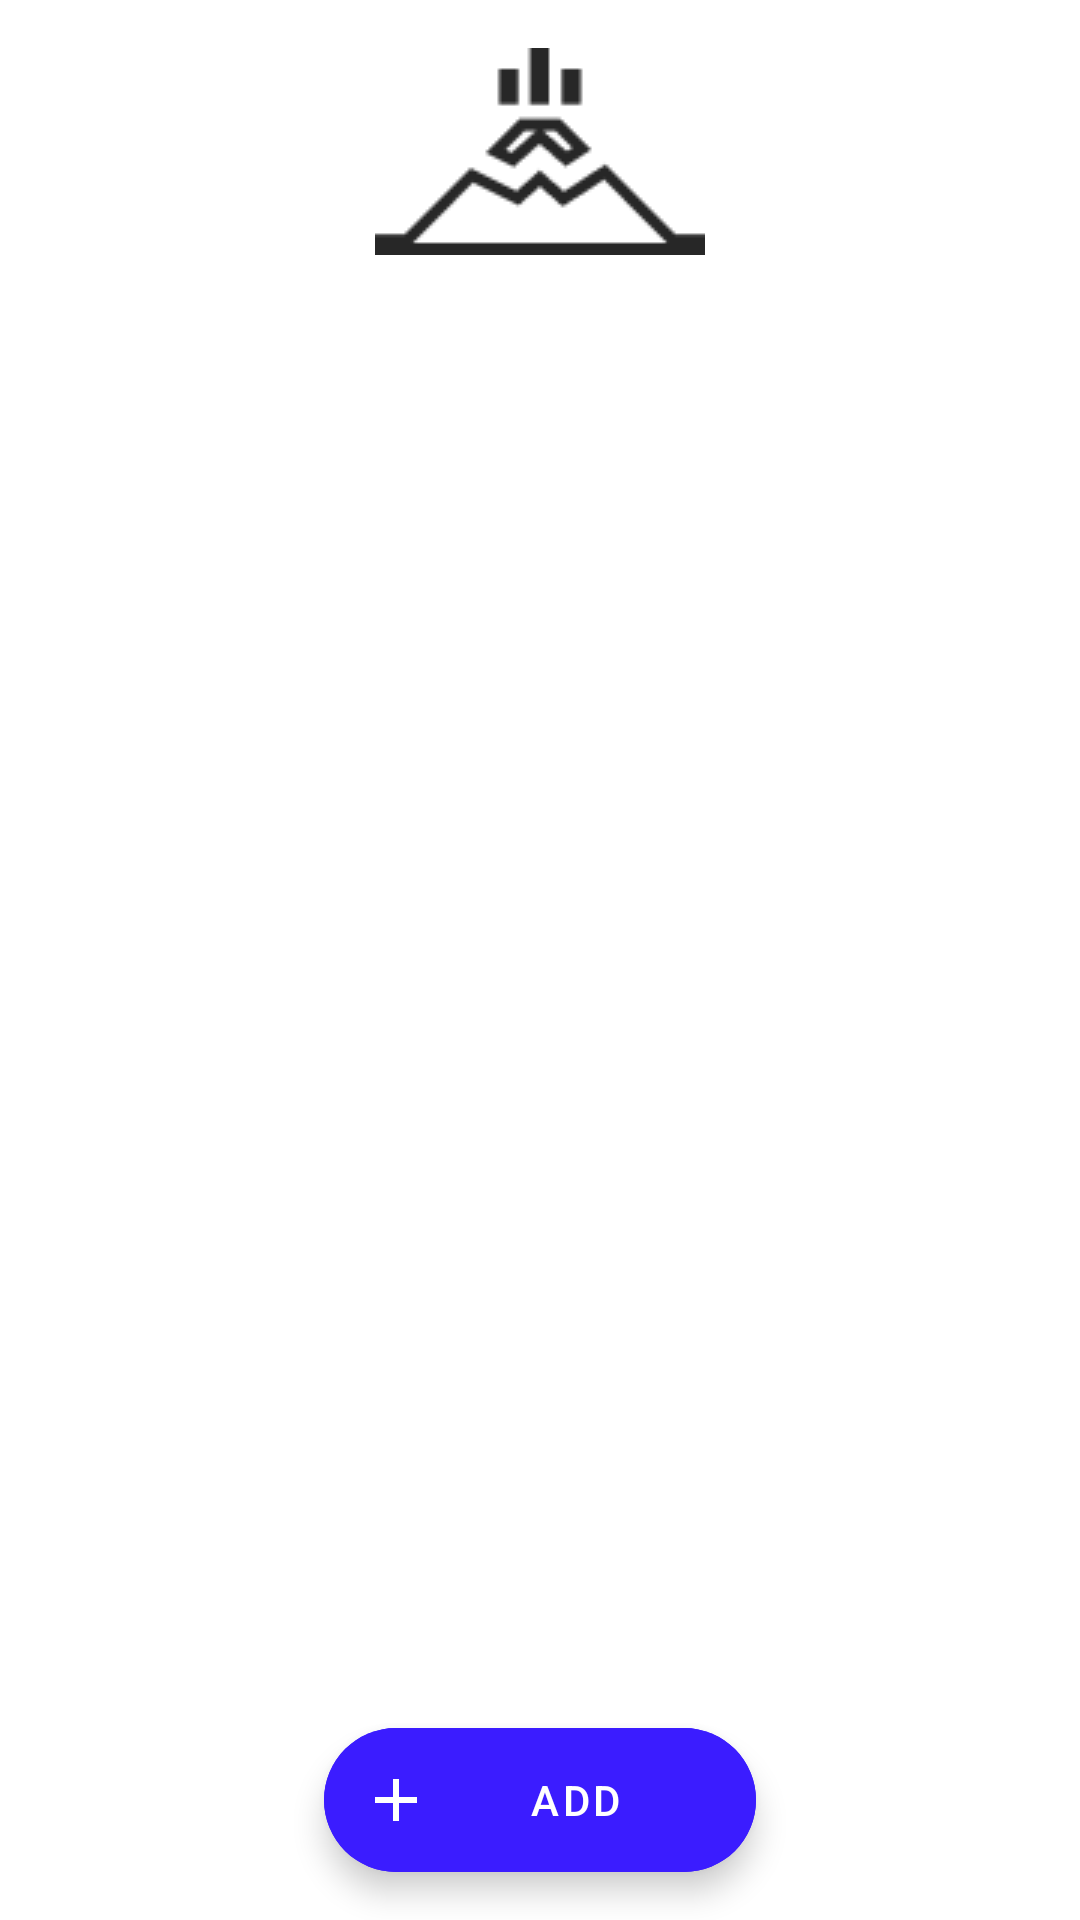

Where icons sit on this 1080*1920 app screen, as bbox=(x1, y1, x2, y2):
volcano: bbox=(375, 48, 705, 255)
